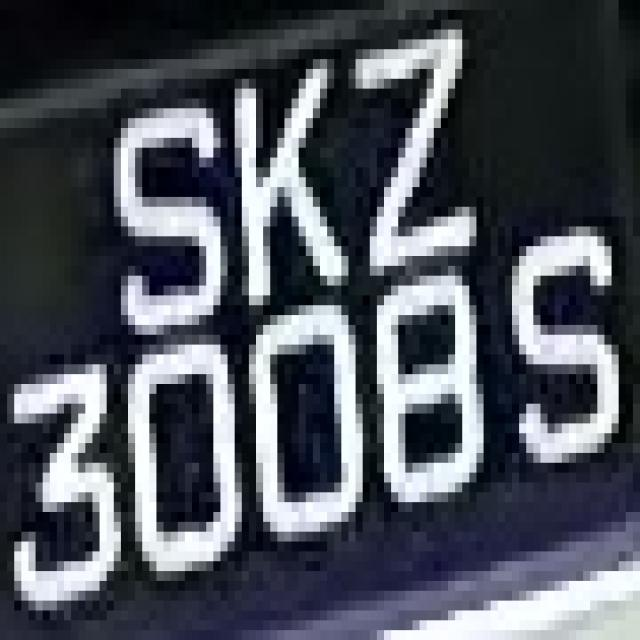0: (106, 315, 235, 601), (242, 325, 384, 561)
3: (14, 325, 128, 640)
8: (327, 286, 491, 532)
K: (206, 69, 356, 315)
S: (92, 59, 228, 355), (498, 217, 626, 512)
Z: (327, 49, 484, 296)
